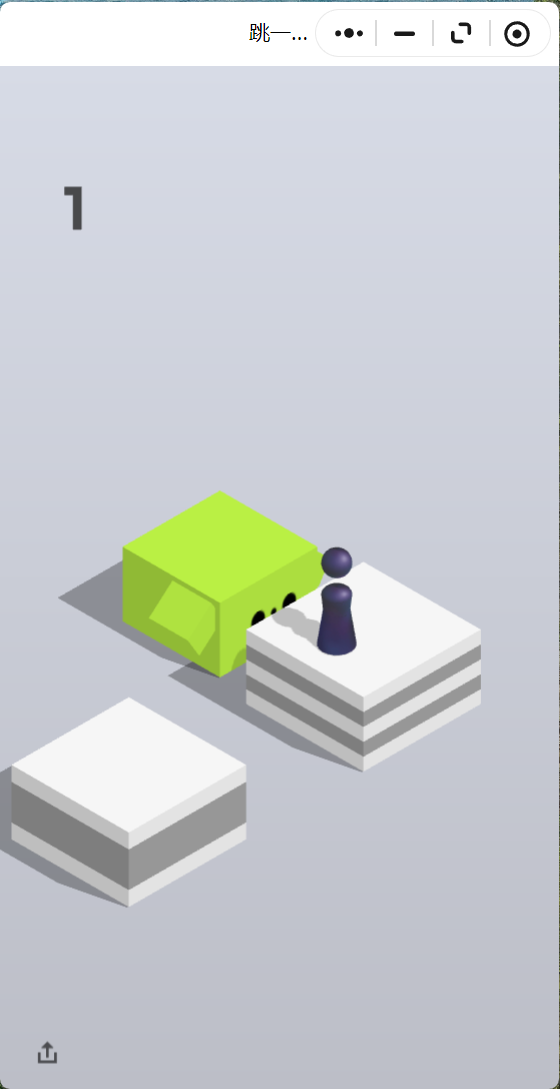piece: (321, 547, 352, 653)
target: (123, 491, 317, 603)
